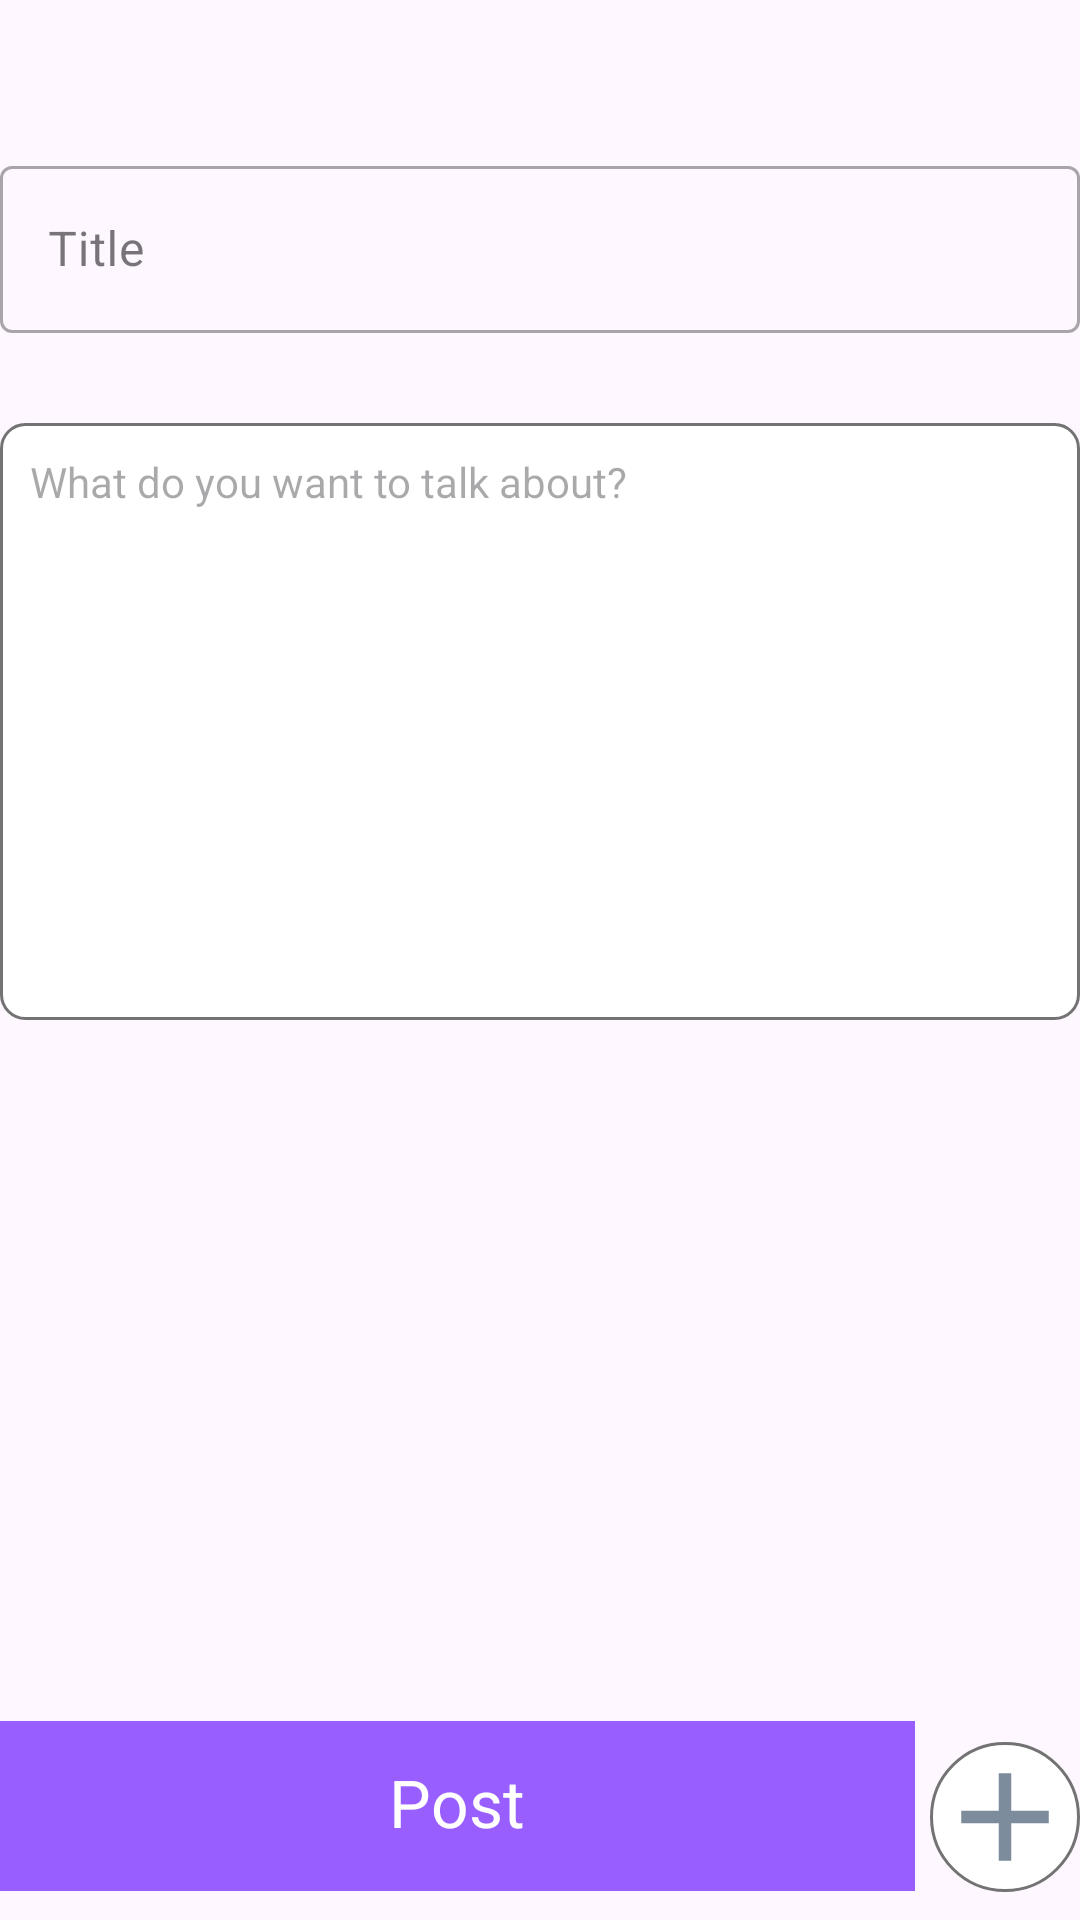

Screen size 1080 x 1920. Icon name, then its box in pixels as (x1, y1, x2, y2):
add: (930, 1742, 1080, 1892)
